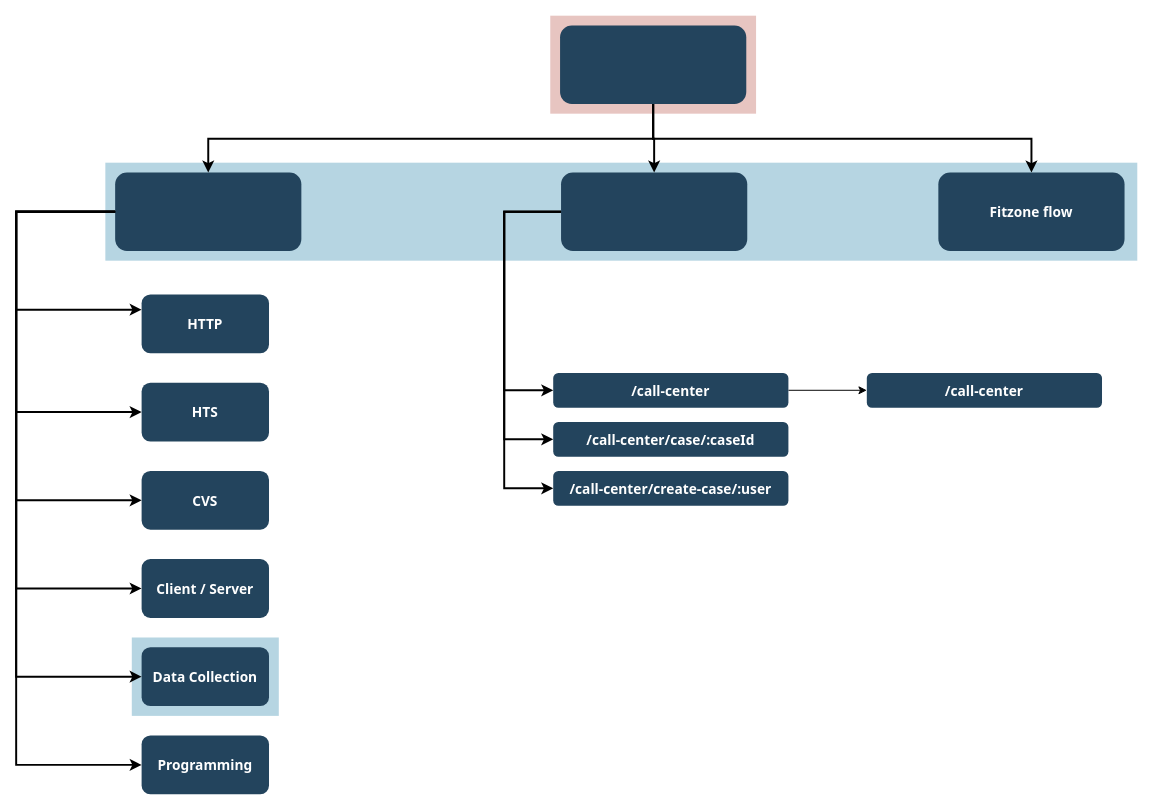
Some shapes in this 1153 by 810 pixel diagram are drawn without their labels. Here are the shapes that lost their labels. From the top down, the box of each, then its label:
(560, 25, 746, 103): ENA
(115, 172, 301, 250): Client flow
(561, 172, 747, 250): Call Center flow
